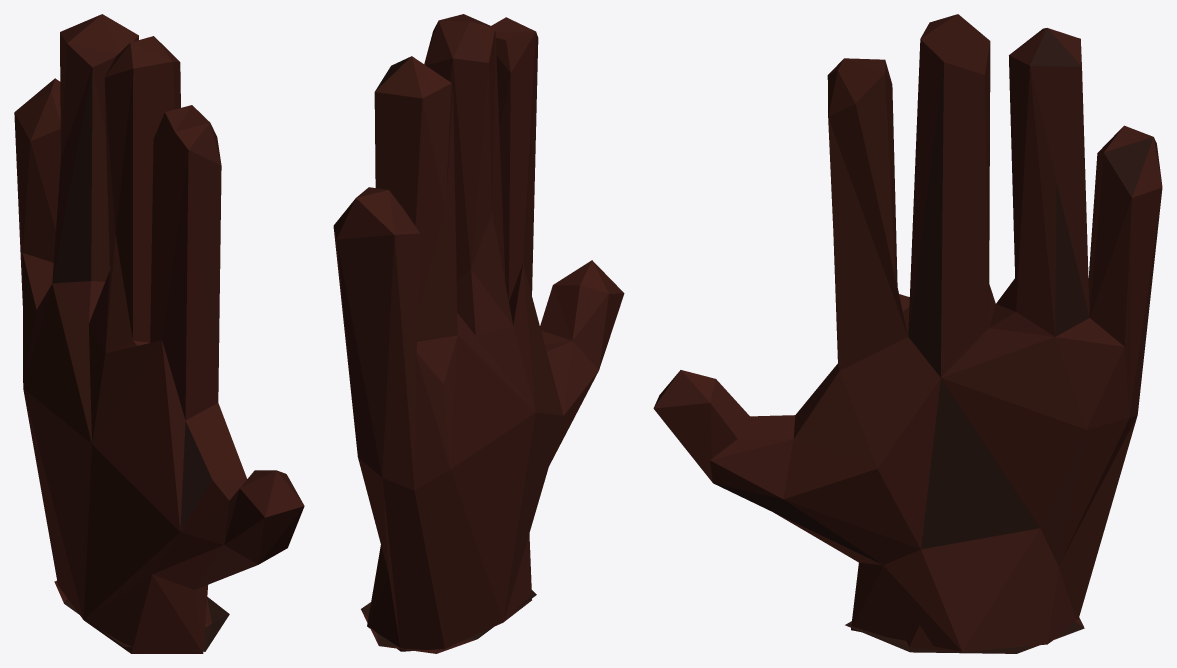
The model's file is Glove.fbx.
3 views of the same model, side by side, from view 1: azimuth 30°, elevation 25°; view 2: azimuth 150°, elevation 25°; view 3: azimuth 270°, elevation 25° (orthographic). The views are drawn at different scales.
Parts seen in each view (by area): view 1: glove; view 2: glove; view 3: glove.
Boxes of the visible parts, <box> form: glove: <box>14,14,304,653</box>; glove: <box>333,14,624,653</box>; glove: <box>653,14,1162,653</box>.
Size of the model in its own units: 3.75 by 15.99 by 12.13.
